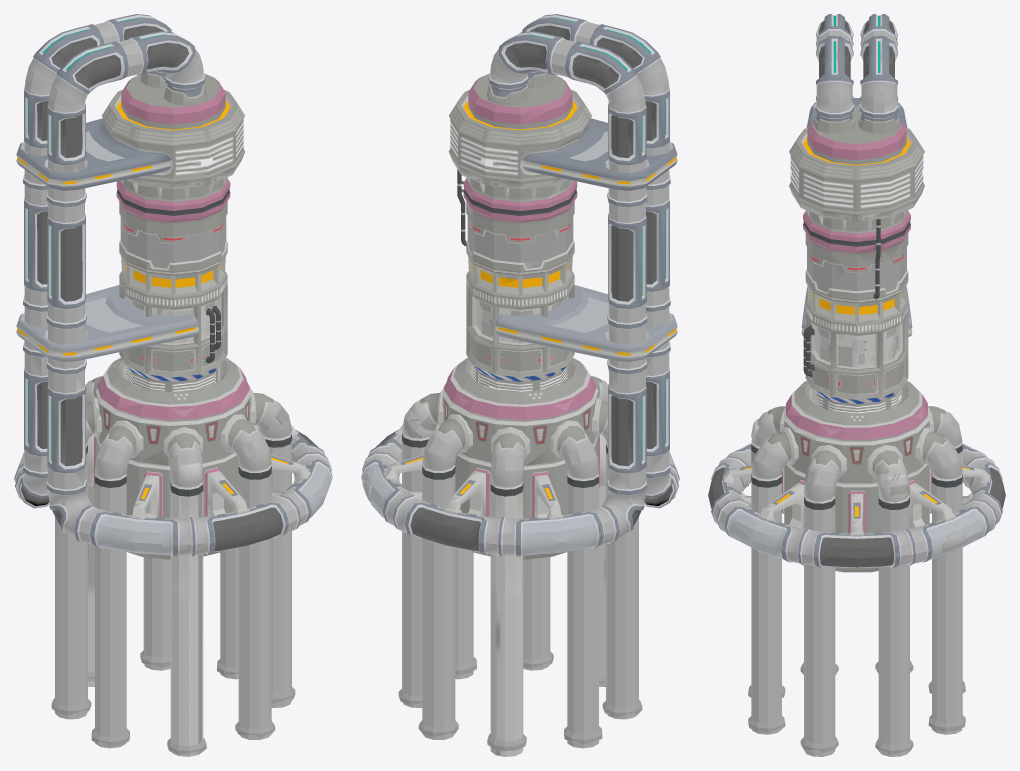
Rendered from FuturisticRefineryTower.glb.
3 renders of one model, left to right at view 1: azimuth 30°, elevation 25°; view 2: azimuth 150°, elevation 25°; view 3: azimuth 270°, elevation 25°, orthographic. The views are drawn at different scales.
Visible parts, largest first — view 1: SM_Bld_Scav_Refinery_Tower_01; view 2: SM_Bld_Scav_Refinery_Tower_01; view 3: SM_Bld_Scav_Refinery_Tower_01.
Boxes of the visible parts, x1=… form: SM_Bld_Scav_Refinery_Tower_01: x1=14, y1=14, x2=332, y2=756; SM_Bld_Scav_Refinery_Tower_01: x1=361, y1=14, x2=679, y2=756; SM_Bld_Scav_Refinery_Tower_01: x1=708, y1=14, x2=1005, y2=756.
Size of the model in its own units: 9.24 by 21.9 by 9.05.
Materials: 1 (1 with a texture image).
